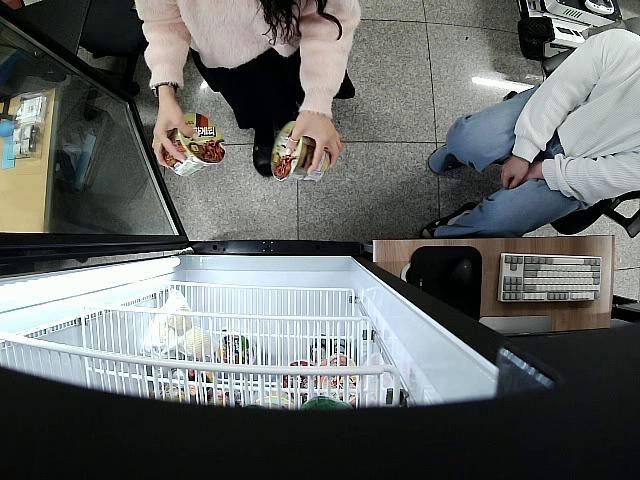03_chapagetti_L: (160, 112, 226, 177), (269, 122, 328, 182)
